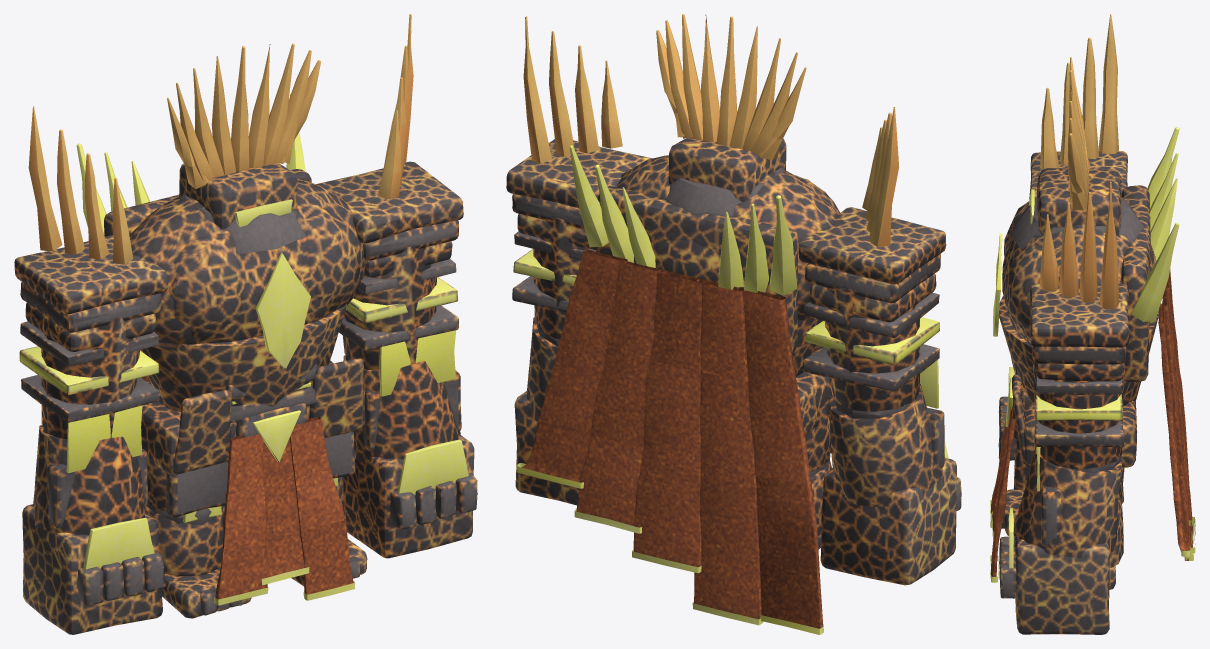
File: Regent.glb
3 views of the same model, side by side, from view 1: azimuth 30°, elevation 25°; view 2: azimuth 150°, elevation 25°; view 3: azimuth 270°, elevation 25° (orthographic). The views are drawn at different scales.
Parts seen in each view (by area): view 1: Regent_spine, Regent_upperArmR, Regent_upperArmL, Regent_head, Regent_handR, Regent_handL, Regent_lowerArmR, Regent_hips, Regent_lowerArmL, Regent_upperLegR, Regent_lowerLegR, Regent_bannerC3 (+11 smaller); view 2: Regent_upperArmR, Regent_upperArmL, Regent_spine, Regent_head, Regent_handR, Regent_lowerArmR, Regent_cloakB3, Regent_cloakA3, Regent_vents, Regent_cloakC3, Regent_cloakC2, Regent_cloakD3 (+14 smaller); view 3: Regent_upperArmL, Regent_spine, Regent_handL, Regent_lowerArmL, Regent_upperArmR, Regent_head, Regent_vents, Regent_hips, Regent_handR, Regent_cloakE1, Regent_cloakE2, Regent_cloakE3 (+10 smaller).
Boxes of the visible parts, bbox=[...] form: Regent_spine: bbox=[104, 169, 365, 423]; Regent_upperArmR: bbox=[14, 106, 167, 439]; Regent_upperArmL: bbox=[316, 14, 463, 369]; Regent_head: bbox=[167, 43, 320, 229]; Regent_handR: bbox=[22, 504, 165, 634]; Regent_handL: bbox=[343, 434, 477, 558]; Regent_lowerArmR: bbox=[33, 405, 147, 535]; Regent_hips: bbox=[141, 358, 365, 475]; Regent_lowerArmL: bbox=[343, 330, 461, 462]; Regent_upperLegR: bbox=[146, 458, 228, 524]; Regent_lowerLegR: bbox=[145, 505, 225, 576]; Regent_bannerC3: bbox=[300, 519, 355, 600]; Regent_upperArmR: bbox=[798, 107, 946, 418]; Regent_upperArmL: bbox=[506, 16, 652, 346]; Regent_spine: bbox=[595, 155, 840, 376]; Regent_head: bbox=[656, 14, 806, 201]; Regent_handR: bbox=[820, 442, 961, 585]; Regent_lowerArmR: bbox=[828, 359, 944, 506]; Regent_cloakB3: bbox=[692, 462, 763, 625]; Regent_cloakA3: bbox=[752, 474, 823, 634]; Regent_vents: bbox=[569, 145, 796, 295]; Regent_cloakC3: bbox=[632, 448, 701, 573]; Regent_cloakC2: bbox=[644, 360, 700, 462]; Regent_cloakD3: bbox=[574, 435, 644, 533]; Regent_upperArmL: bbox=[1028, 181, 1128, 472]; Regent_spine: bbox=[993, 185, 1158, 405]; Regent_handL: bbox=[999, 508, 1110, 634]; Regent_lowerArmL: bbox=[1013, 446, 1122, 557]; Regent_upperArmR: bbox=[1029, 14, 1127, 199]; Regent_head: bbox=[1029, 57, 1121, 234]; Regent_vents: bbox=[1131, 127, 1179, 323]; Regent_hips: bbox=[1005, 374, 1137, 467]; Regent_handR: bbox=[998, 367, 1029, 489]; Regent_cloakE1: bbox=[1158, 303, 1172, 411]; Regent_cloakE2: bbox=[1166, 401, 1180, 500]; Regent_cloakE3: bbox=[1174, 476, 1191, 556].
Size of the model in its own units: 3.1 by 3.96 by 1.47.
1 material, 1 textured.
